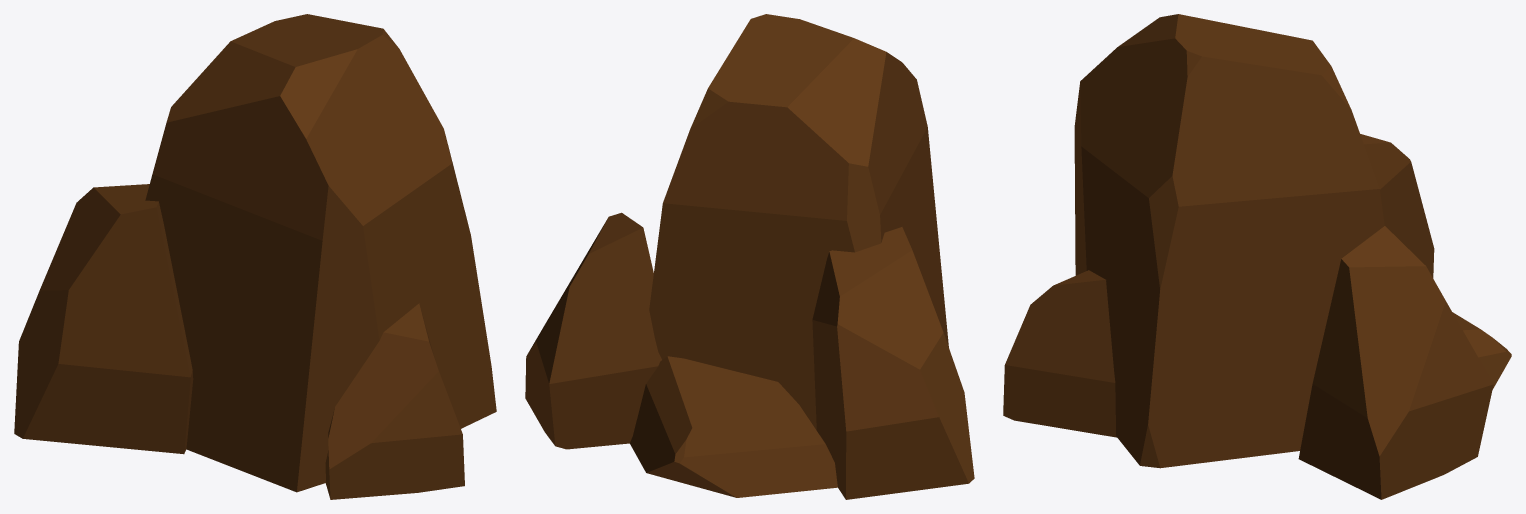
Rendered from Rock.glb.
3 renders of one model, left to right at view 1: azimuth 30°, elevation 25°; view 2: azimuth 150°, elevation 25°; view 3: azimuth 270°, elevation 25°, orthographic. The views are drawn at different scales.
Parts seen in each view (by area): view 1: Cube, Cube.003, Cube.004; view 2: Cube, Cube.003, Cube.001, Cube.002; view 3: Cube, Cube.001, Cube.004, Cube.003, Cube.002.
Boxes of the visible parts, x1=… form: Cube: x1=145, y1=14, x2=496, y2=492; Cube.003: x1=14, y1=184, x2=193, y2=454; Cube.004: x1=325, y1=303, x2=464, y2=499; Cube: x1=649, y1=14, x2=948, y2=429; Cube.003: x1=812, y1=227, x2=974, y2=499; Cube.001: x1=525, y1=212, x2=661, y2=449; Cube.002: x1=630, y1=356, x2=837, y2=497; Cube: x1=1074, y1=14, x2=1384, y2=468; Cube.001: x1=1298, y1=226, x2=1493, y2=499; Cube.004: x1=1003, y1=270, x2=1116, y2=437; Cube.003: x1=1360, y1=134, x2=1434, y2=277; Cube.002: x1=1452, y1=312, x2=1511, y2=389.
Size of the model in its own units: 0.6933 by 0.559 by 0.6881.
